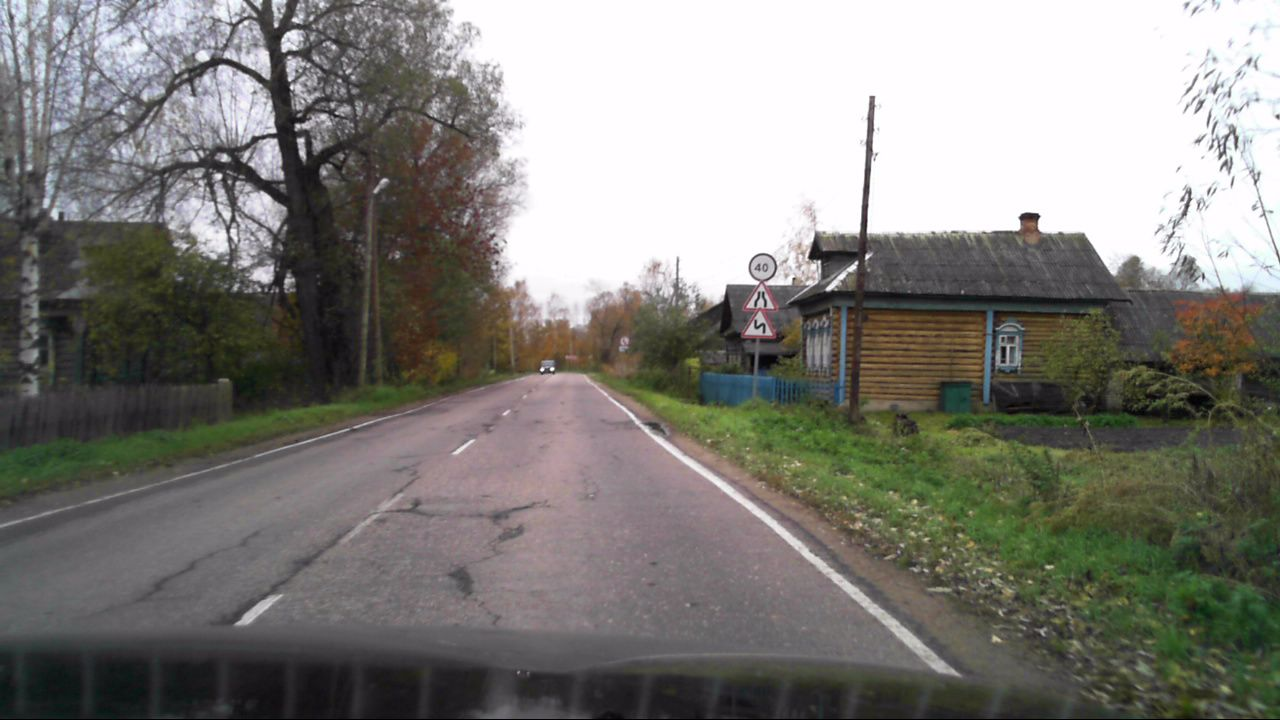speed_warning_40: (748, 251, 778, 281)
